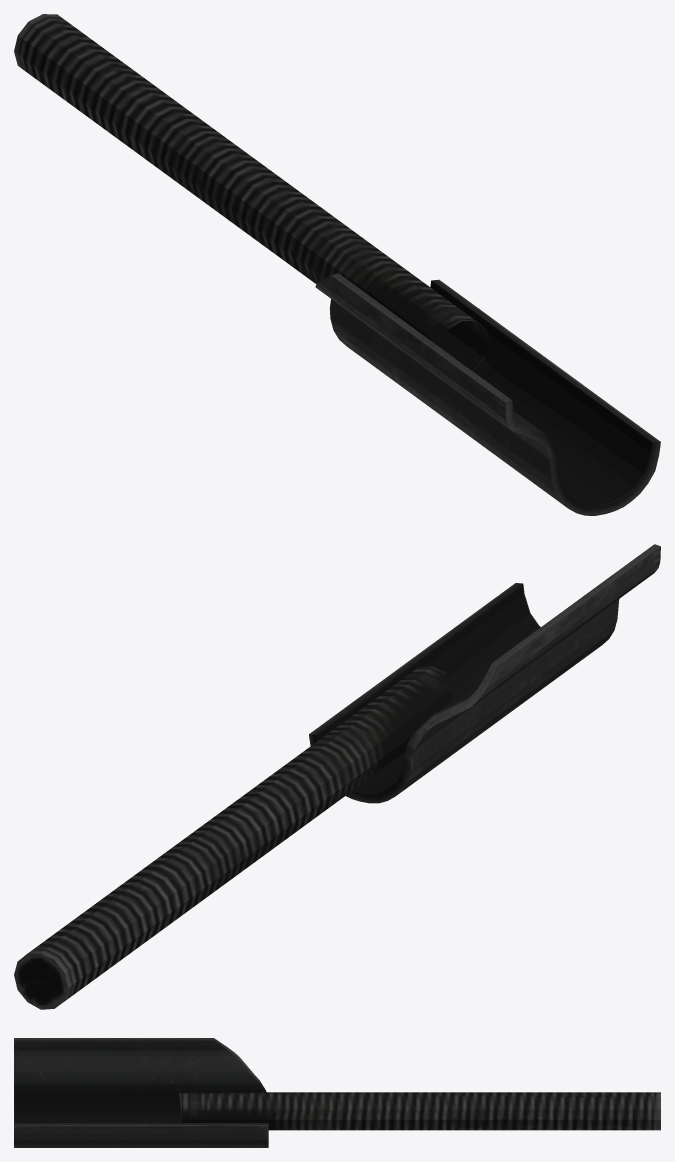
3 views of the same model, one above another, from view 1: azimuth 30°, elevation 25°; view 2: azimuth 150°, elevation 25°; view 3: azimuth 270°, elevation 25° (orthographic). The views are drawn at different scales.
Parts seen in each view (by area): view 1: TW_576165642459773c7a400233_PZ_Import; view 2: TW_576165642459773c7a400233_PZ_Import; view 3: TW_576165642459773c7a400233_PZ_Import.
Part boxes in pixels (box(x1,y1,x2,y2)): TW_576165642459773c7a400233_PZ_Import: box(14, 14, 660, 515); TW_576165642459773c7a400233_PZ_Import: box(14, 544, 660, 1009); TW_576165642459773c7a400233_PZ_Import: box(14, 1038, 660, 1147).
Size of the model in its own units: 0.0143 by 0.0895 by 0.012.
1 material, 1 textured.
